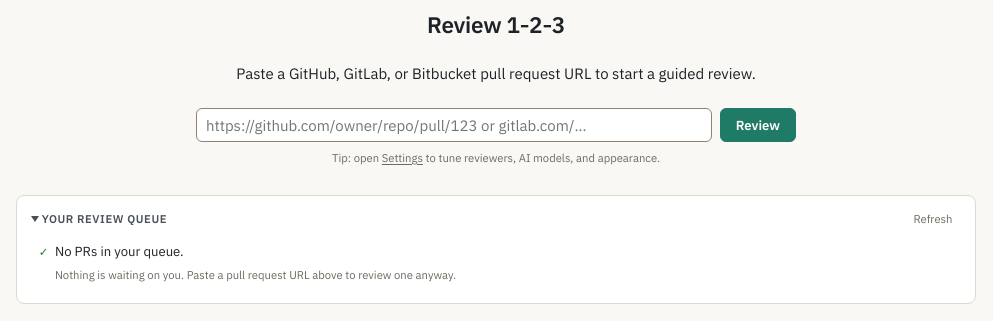
Landing collapsible sections › clicking a collapsed queue header expands it again
Check: the text "No PRs in your queue" is shown, box x1=55 y1=243 x2=184 y2=260
Click the button "Your review queue": click(100, 219) x1=32 y1=211 x2=167 y2=227
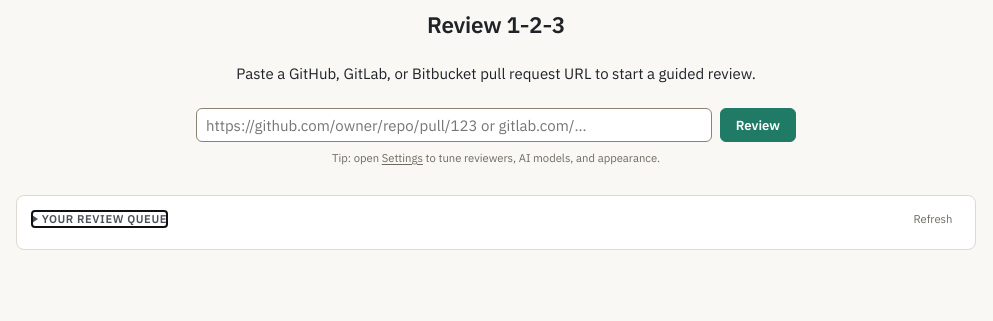
Click the button "Your review queue": click(100, 219) x1=32 y1=211 x2=167 y2=227
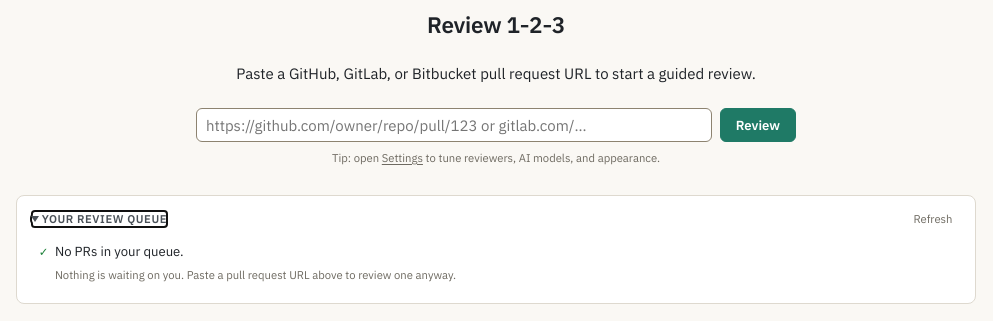
Check: the button "Your review queue" is expanded, box x1=32 y1=211 x2=167 y2=227
Check: the text "No PRs in your queue" is shown, box x1=55 y1=243 x2=184 y2=260
